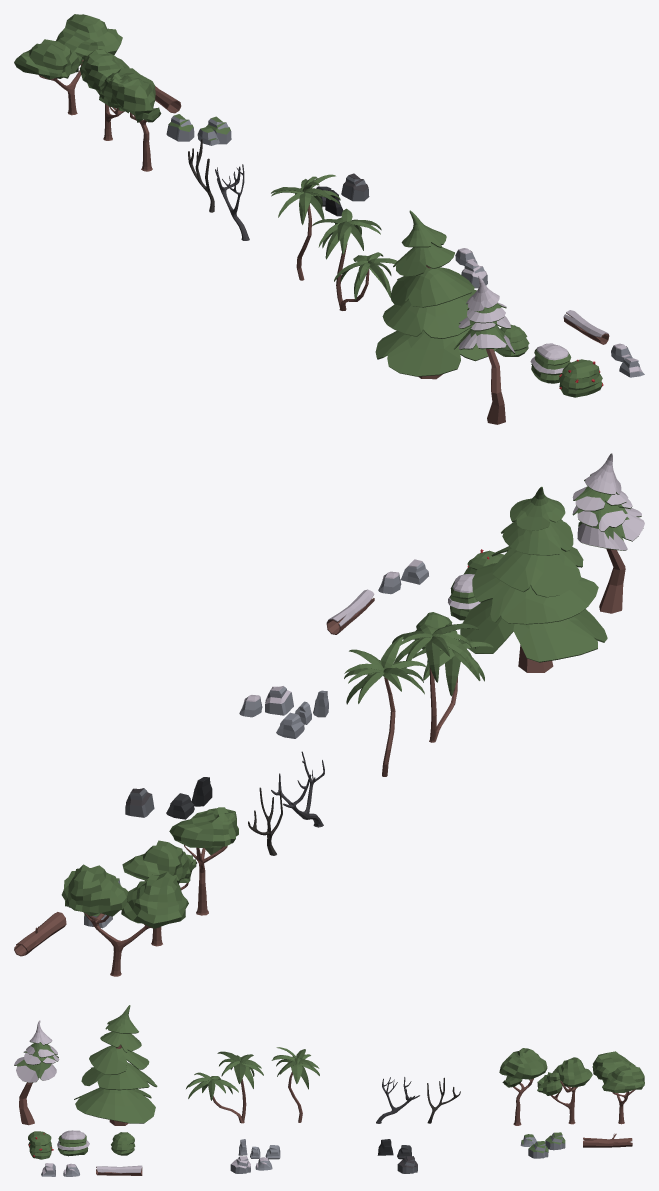
The model's file is Modelos environment projetorpg.fbx.
The picture shows the model from 3 angles, top to bottom: view 1: azimuth 30°, elevation 25°; view 2: azimuth 150°, elevation 25°; view 3: azimuth 270°, elevation 25°; orthographic projection. The views are drawn at different scales.
Parts seen in each view (by area): view 1: PineTree_1, CommonTree_1, PineTree_Snow_4, PalmTree_3, CommonTree_4, CommonTree_2, PalmTree_1, BushBerries_4, Bush_Snow_1, Willow_Dead_2, WoodLog_Snow, Bush_2 (+2 smaller); view 2: PineTree_1, CommonTree_1, PineTree_Snow_4, PalmTree_3, CommonTree_4, PalmTree_1, CommonTree_2, Bush_Snow_1, WoodLog, WoodLog_Snow, Willow_Dead_2; view 3: PineTree_1, PineTree_Snow_4, CommonTree_1, PalmTree_3, CommonTree_2, CommonTree_4, PalmTree_1, Bush_Snow_1, BushBerries_4, WoodLog, Bush_2, WoodLog_Snow (+6 smaller).
Part boxes in pixels (x1,y1,x2,y2): PineTree_1: (375, 210, 496, 379); CommonTree_1: (14, 14, 122, 115); PineTree_Snow_4: (453, 276, 515, 424); PalmTree_3: (312, 208, 397, 310); CommonTree_4: (99, 68, 161, 171); CommonTree_2: (79, 49, 129, 140); PalmTree_1: (271, 174, 340, 280); BushBerries_4: (558, 359, 603, 397); Bush_Snow_1: (530, 343, 571, 383); Willow_Dead_2: (215, 164, 249, 240); WoodLog_Snow: (563, 310, 609, 344); Bush_2: (495, 324, 529, 356); PineTree_1: (460, 486, 607, 672); CommonTree_1: (61, 864, 188, 976); PineTree_Snow_4: (572, 453, 644, 613); PalmTree_3: (392, 623, 493, 742); CommonTree_4: (169, 807, 238, 915); PalmTree_1: (344, 636, 425, 776); CommonTree_2: (122, 840, 196, 946); Bush_Snow_1: (448, 574, 480, 620); WoodLog: (14, 912, 66, 956); WoodLog_Snow: (326, 589, 374, 634); Willow_Dead_2: (271, 751, 324, 827); PineTree_1: (74, 1005, 157, 1125); PineTree_Snow_4: (14, 1020, 59, 1125); CommonTree_1: (592, 1051, 644, 1124); PalmTree_3: (186, 1051, 263, 1123); CommonTree_2: (537, 1057, 592, 1124); CommonTree_4: (499, 1048, 547, 1125); PalmTree_1: (271, 1047, 319, 1122); Bush_Snow_1: (57, 1130, 89, 1156); BushBerries_4: (28, 1131, 53, 1159); WoodLog: (583, 1133, 632, 1147); Bush_2: (111, 1132, 135, 1155); WoodLog_Snow: (96, 1165, 142, 1175).
Bounding box in the file's own units: 974 × 691 × 3398.
